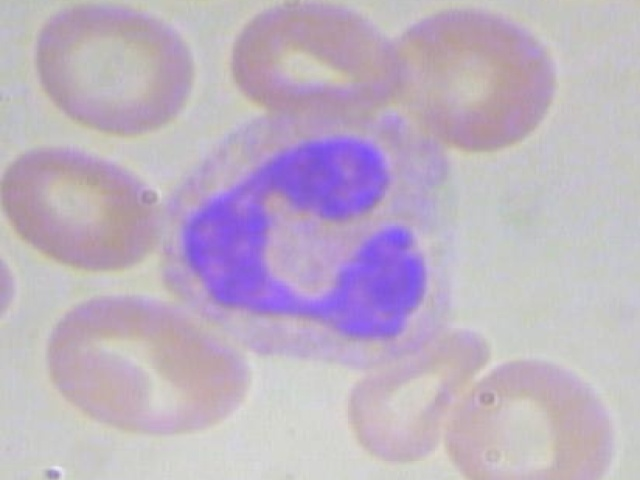RBC: (44, 286, 254, 449), (374, 5, 580, 152), (19, 0, 210, 140), (0, 135, 179, 276), (443, 350, 633, 480), (323, 325, 496, 464), (222, 0, 400, 114), (0, 221, 13, 336)
WBC: (151, 97, 507, 361)
